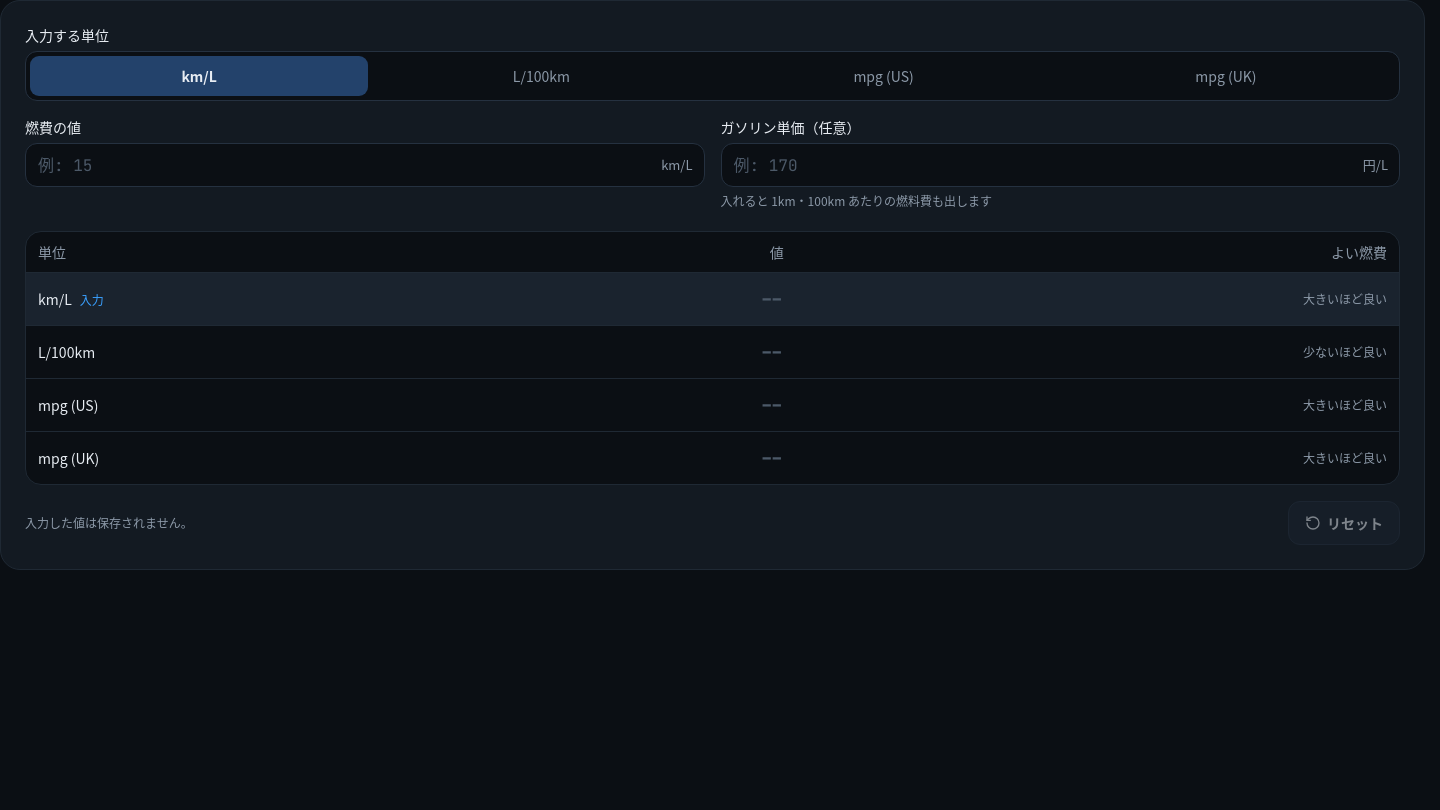
it: FuelConvertCalculator › 不正な入力には日本語のメッセージを出し、リセットで消す
The image size is (1440, 810).
Expected: the button "リセット" is disabled, [1288,500,1400,544]
In the field labelled "燃費の値": (365, 165) [25,143,704,187], type "0"
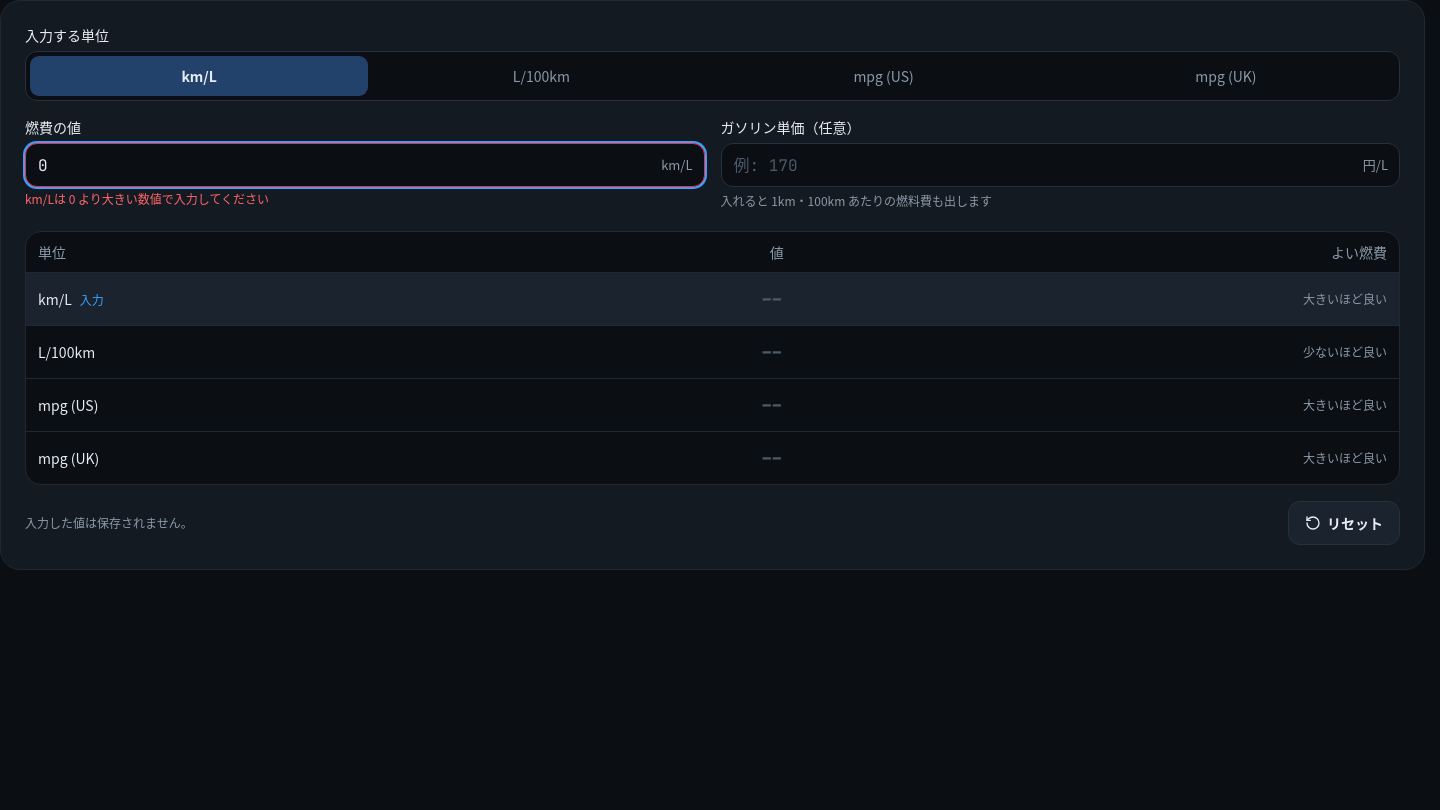
Expected: the text "km/Lは 0 より大きい数値で入力してください" is shown, [25,190,269,207]
Click the button "リセット": click(1344, 522) [1288,500,1400,544]
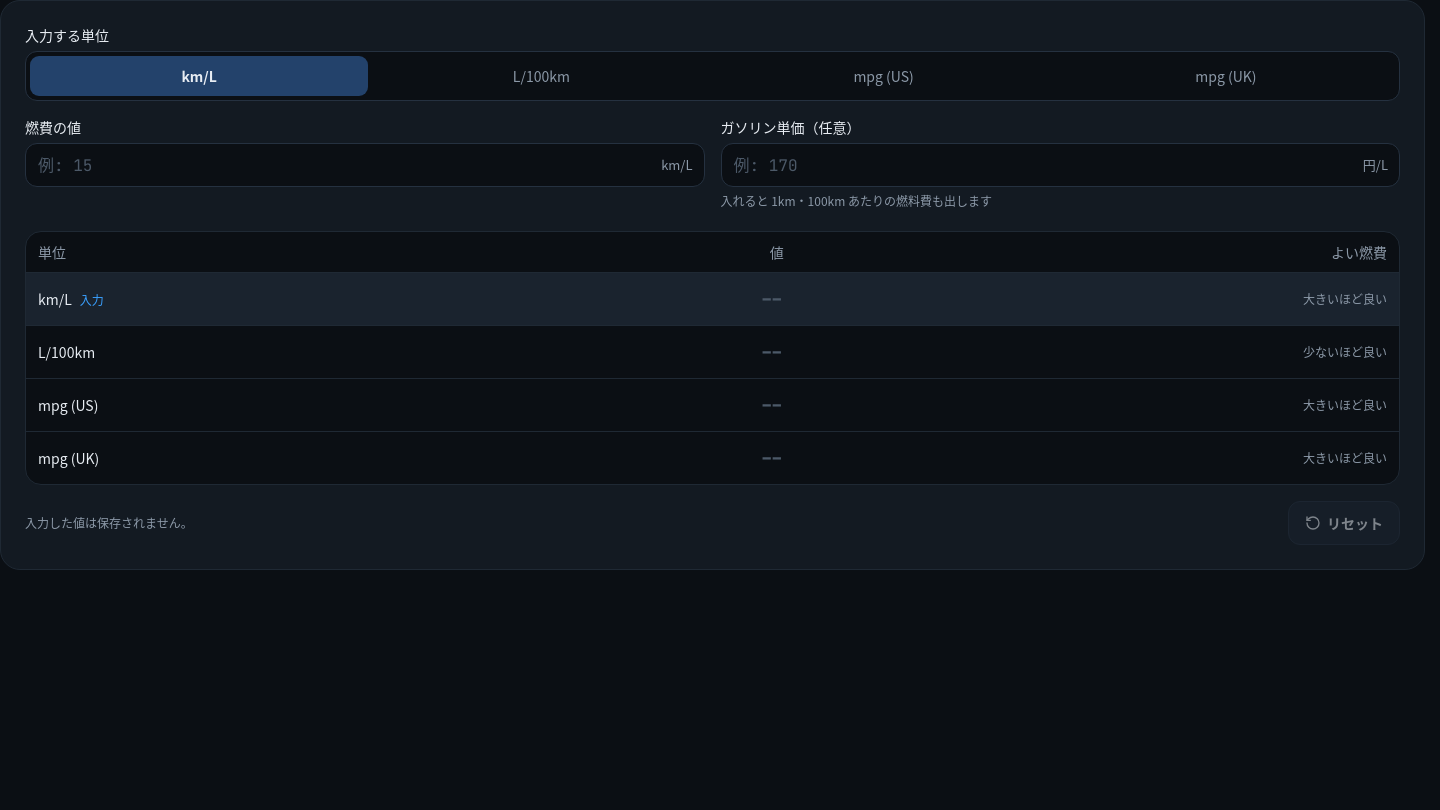
Expected: the field labelled "燃費の値" is empty, [25,143,704,187]
Expected: the text "大きい数値" is gone
